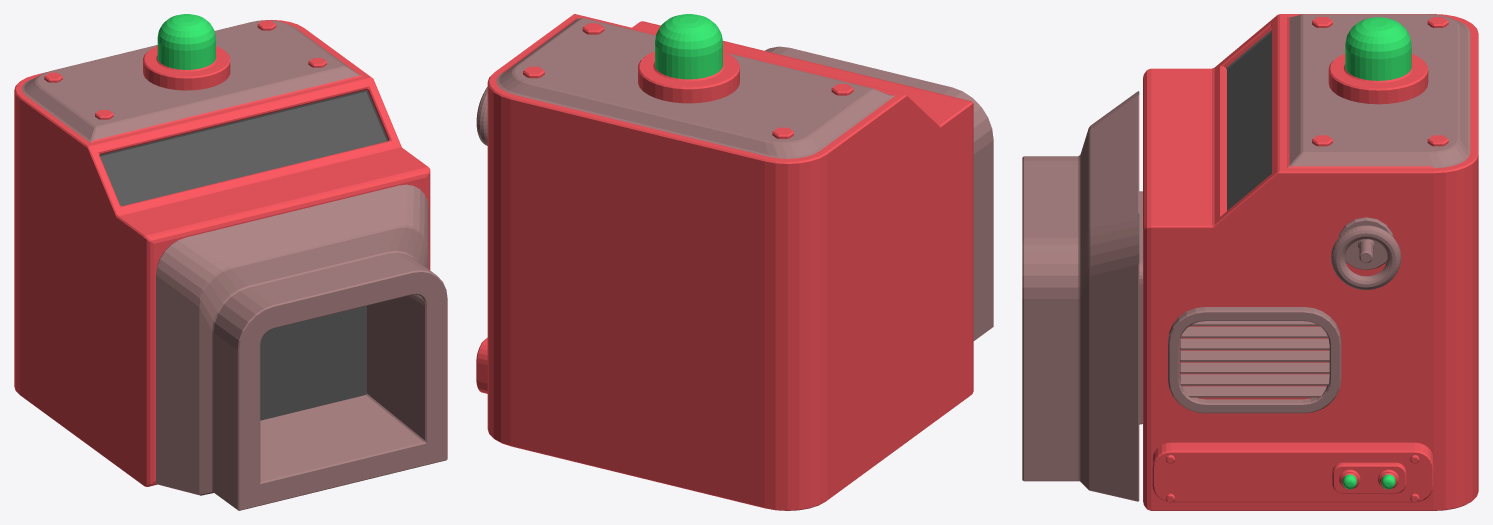
Rendered from Stanok_brevna.fbx.
3 views of the same model, side by side, from view 1: azimuth 30°, elevation 25°; view 2: azimuth 150°, elevation 25°; view 3: azimuth 270°, elevation 25° (orthographic). The views are drawn at different scales.
Parts seen in each view (by area): view 1: Stanok_brevna; view 2: Stanok_brevna; view 3: Stanok_brevna.
Part boxes in pixels (x1,y1,x2,y2): Stanok_brevna: (14, 14, 447, 510); Stanok_brevna: (476, 14, 993, 510); Stanok_brevna: (1022, 14, 1478, 510).
Bounding box in the file's own units: 184 × 200 × 202.
